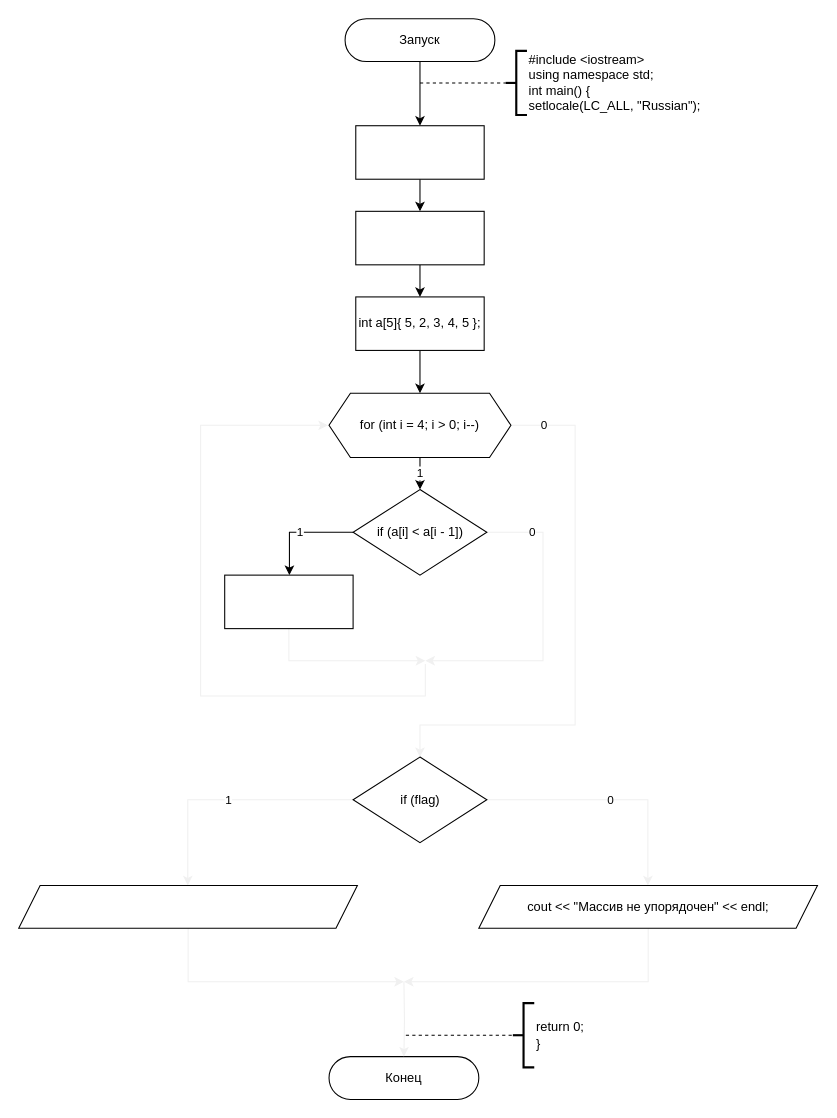
Image size: 837x1118. Some labels were removed from this diagram. Each missing label, with the box of its shape:
bool flag = true;: (355, 210, 484, 265)
cout << "Массив упорядочен" << endl;: (18, 884, 357, 928)
flag = false;: (224, 574, 353, 629)
int n = 5;: (355, 125, 484, 179)
